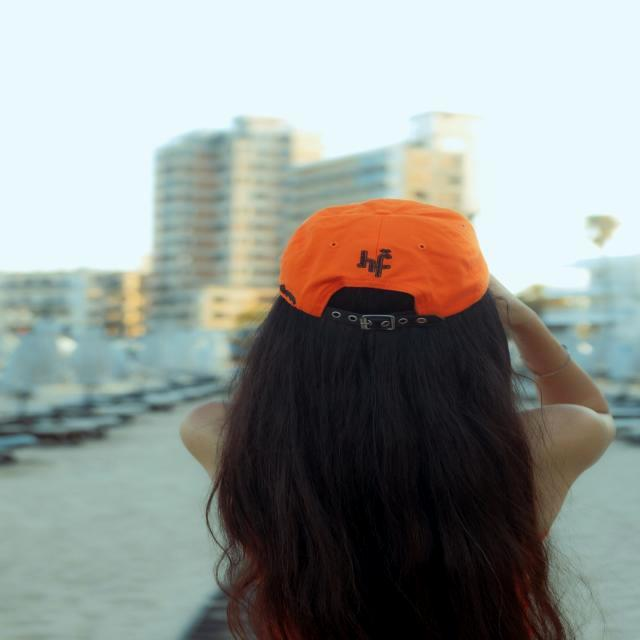no_hard_hat: (280, 199, 489, 318)
person: (181, 199, 615, 640)
